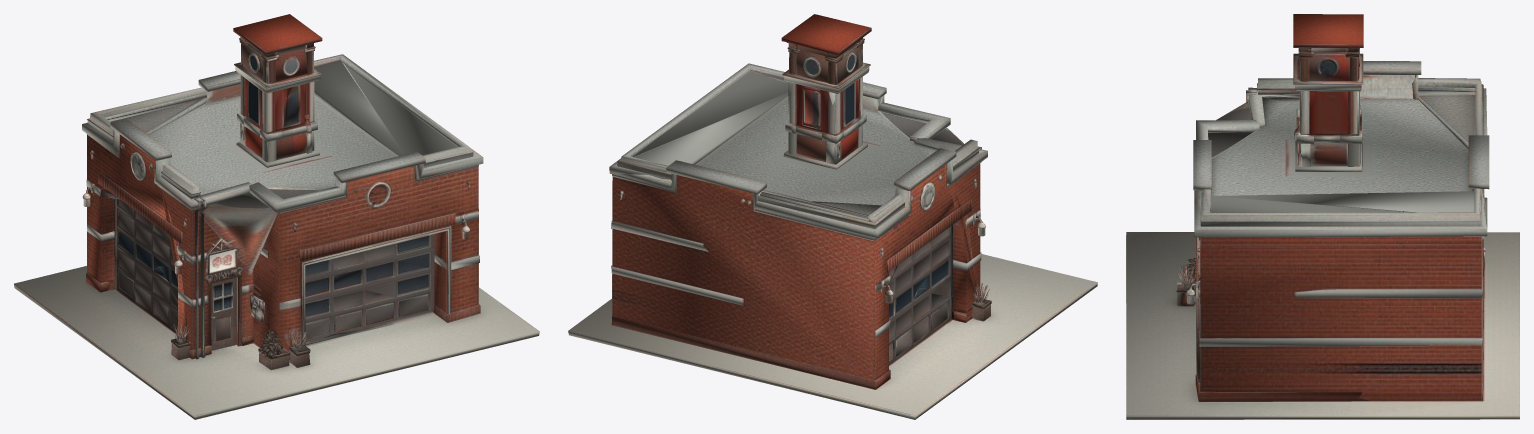
File: bld_fire_station.glb
The picture shows the model from 3 angles, left to right: view 1: azimuth 30°, elevation 25°; view 2: azimuth 150°, elevation 25°; view 3: azimuth 270°, elevation 25°; orthographic projection. The views are drawn at different scales.
Size of the model in its own units: 0.9683 by 0.7407 by 0.877.
1 material, 1 textured.
